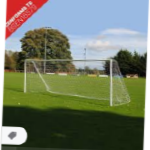goals: (22, 56, 131, 107)
